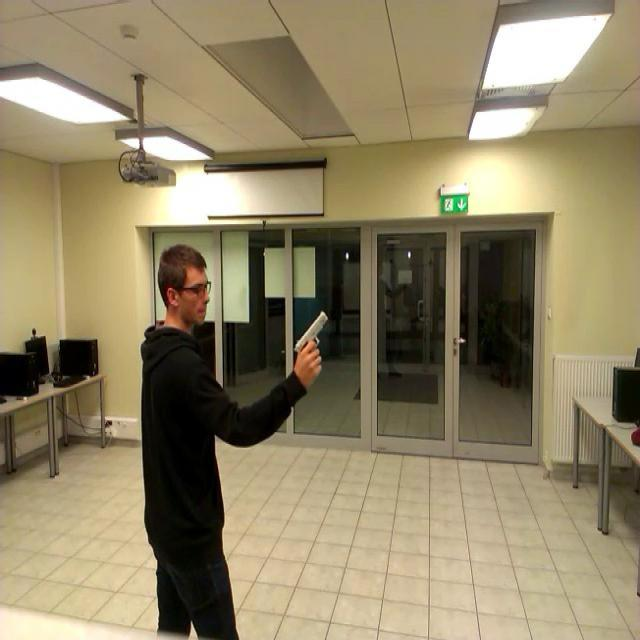weapon: (291, 308, 329, 370)
